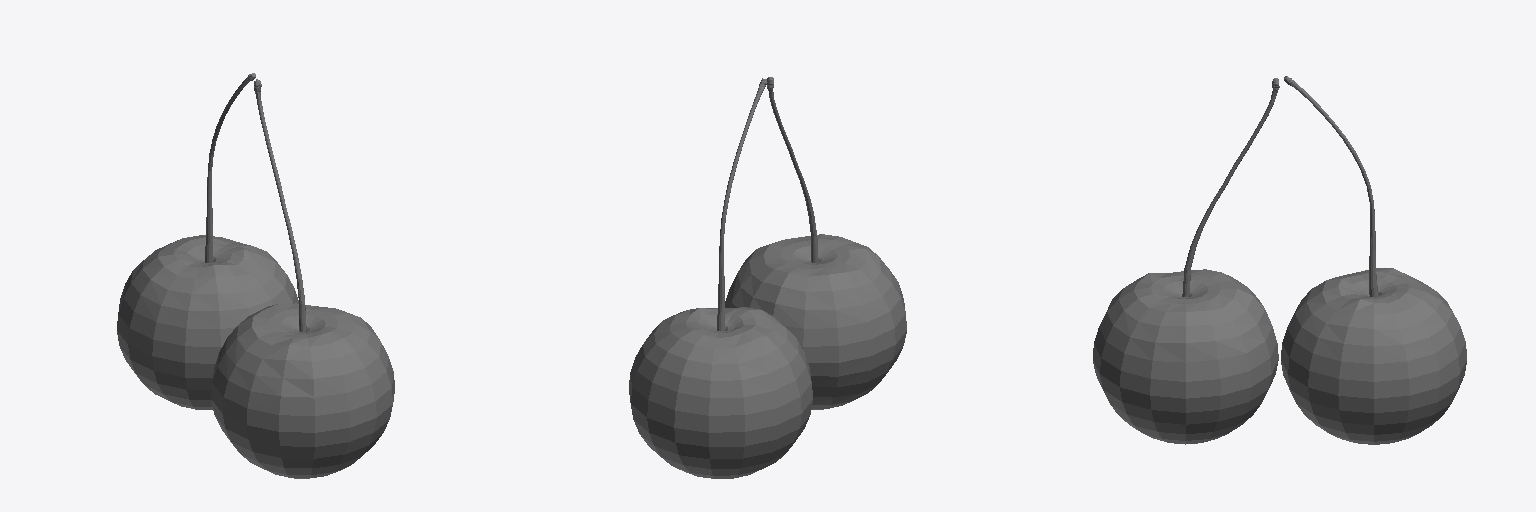
Rendered from cherry.obj.
3 views of the same model, side by side, from view 1: azimuth 30°, elevation 25°; view 2: azimuth 150°, elevation 25°; view 3: azimuth 270°, elevation 25° (orthographic).
Parts seen in each view (by area): view 1: pSphere1 Cherry_02 Cherry, Cherry pSphere2 Cherry_01, Cherry_02 Cherry polySurface2, Cherry Cherry_01 polySurface1; view 2: Cherry pSphere2 Cherry_01, pSphere1 Cherry_02 Cherry, Cherry Cherry_01 polySurface1, Cherry_02 Cherry polySurface2; view 3: Cherry pSphere2 Cherry_01, pSphere1 Cherry_02 Cherry, Cherry Cherry_01 polySurface1, Cherry_02 Cherry polySurface2.
Part boxes in pixels (x1,y1,x2,y2): pSphere1 Cherry_02 Cherry: (211, 303, 394, 478); Cherry pSphere2 Cherry_01: (117, 235, 298, 409); Cherry_02 Cherry polySurface2: (254, 79, 306, 331); Cherry Cherry_01 polySurface1: (205, 73, 255, 262); Cherry pSphere2 Cherry_01: (629, 307, 812, 478); pSphere1 Cherry_02 Cherry: (725, 234, 906, 409); Cherry Cherry_01 polySurface1: (717, 78, 766, 330); Cherry_02 Cherry polySurface2: (767, 77, 818, 262); Cherry pSphere2 Cherry_01: (1281, 268, 1466, 444); pSphere1 Cherry_02 Cherry: (1093, 269, 1278, 444); Cherry Cherry_01 polySurface1: (1284, 76, 1377, 296); Cherry_02 Cherry polySurface2: (1182, 78, 1279, 296).
Size of the model in its own units: 17.86 by 37.97 by 35.83.